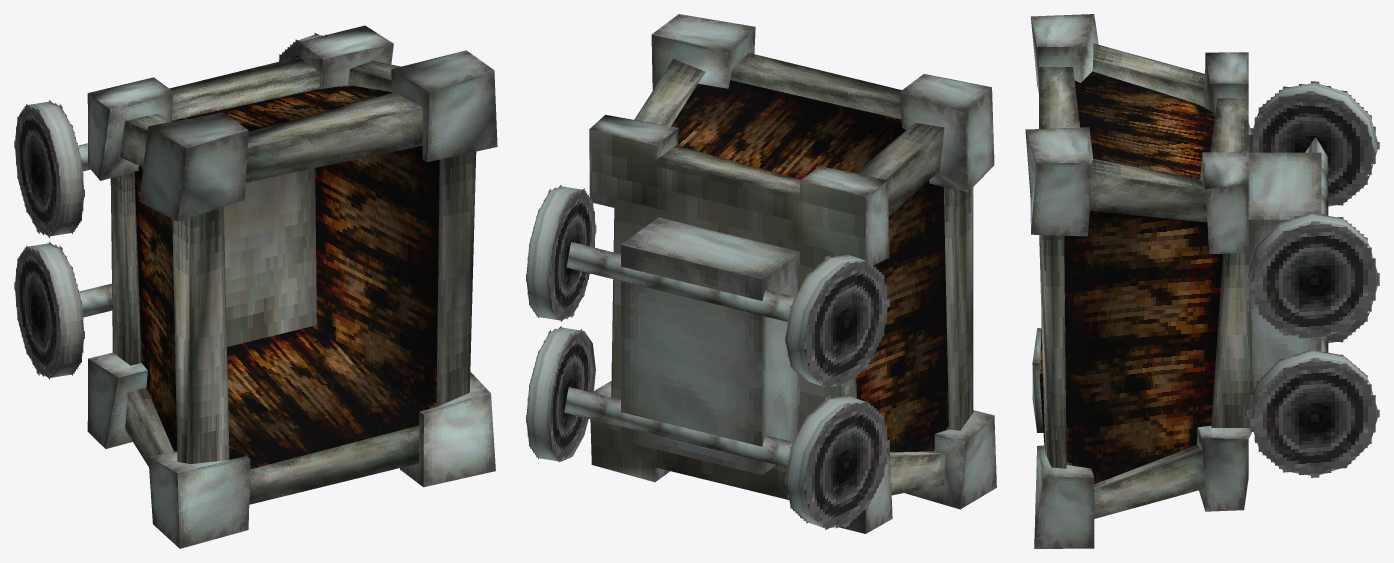
The model's file is INST_SWORDLIGHT_MINECARTA.fbx.
The picture shows the model from 3 angles, left to right: view 1: azimuth 30°, elevation 25°; view 2: azimuth 150°, elevation 25°; view 3: azimuth 270°, elevation 25°; orthographic projection. The views are drawn at different scales.
Parts seen in each view (by area): view 1: INST_SWORDLIGHT_MINECARTA; view 2: INST_SWORDLIGHT_MINECARTA; view 3: INST_SWORDLIGHT_MINECARTA.
Boxes of the visible parts, x1,y1,x2,y2 form: INST_SWORDLIGHT_MINECARTA: (14,25,497,548); INST_SWORDLIGHT_MINECARTA: (526,14,996,533); INST_SWORDLIGHT_MINECARTA: (1025,14,1379,548).
Bounding box in the file's own units: 12190 × 14204 × 11808.
4 materials, 4 textured.
